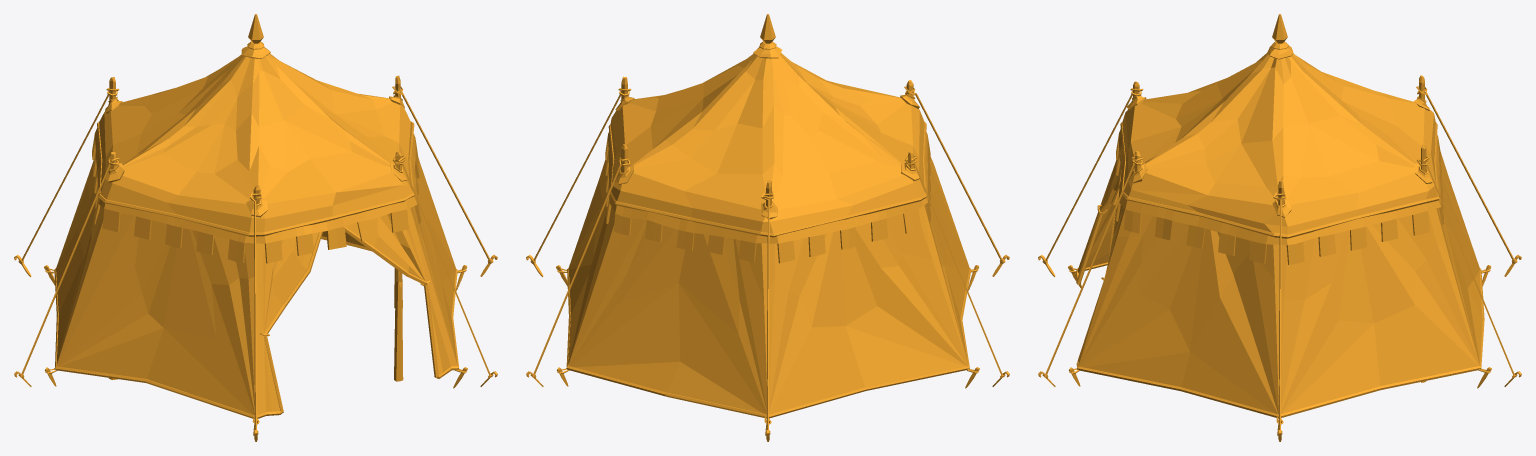
File: SM_Tent_Hexagon_Striped_Fantasy.fbx
The picture shows the model from 3 angles, left to right: view 1: azimuth 30°, elevation 25°; view 2: azimuth 150°, elevation 25°; view 3: azimuth 270°, elevation 25°; orthographic projection.
Parts seen in each view (by area): view 1: tent-hexagon-striped-fantasy; view 2: tent-hexagon-striped-fantasy; view 3: tent-hexagon-striped-fantasy.
Part boxes in pixels (x1=…): tent-hexagon-striped-fantasy: x1=14, y1=14, x2=497, y2=441; tent-hexagon-striped-fantasy: x1=526, y1=14, x2=1009, y2=441; tent-hexagon-striped-fantasy: x1=1038, y1=14, x2=1521, y2=441.
Bounding box in the file's own units: 8.07 × 5.31 × 7.02.
